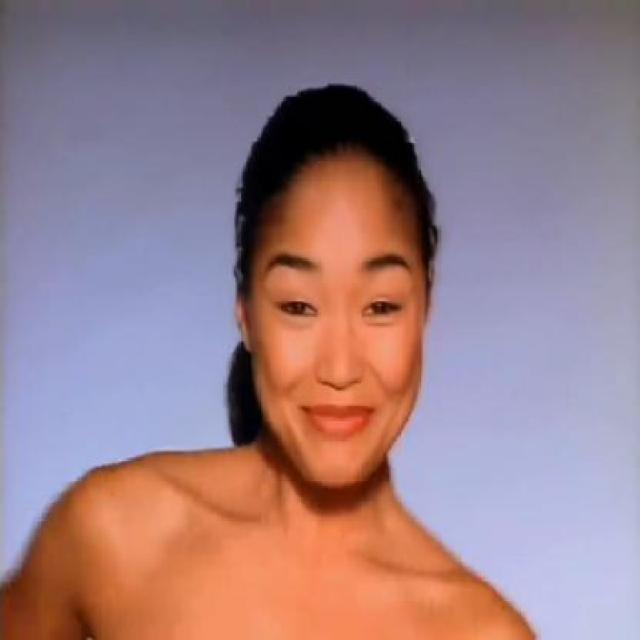closed-mouth: (296, 398, 376, 438)
